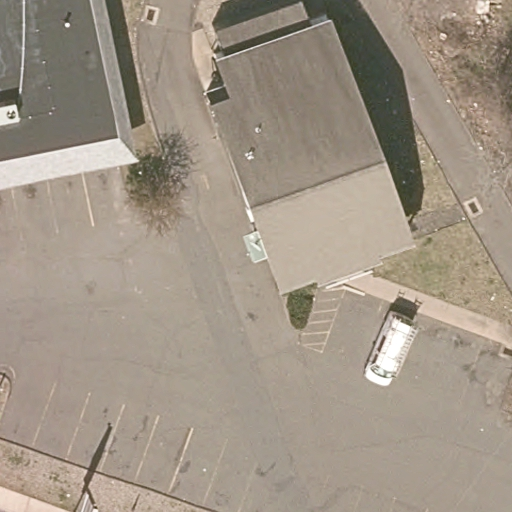DT: (77, 482, 99, 512)
